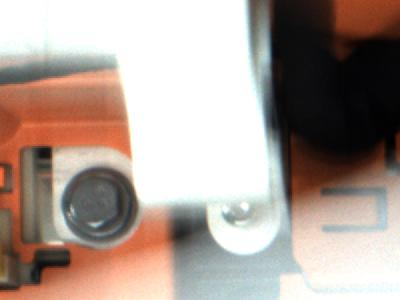nut_b: (62, 157, 140, 245)
